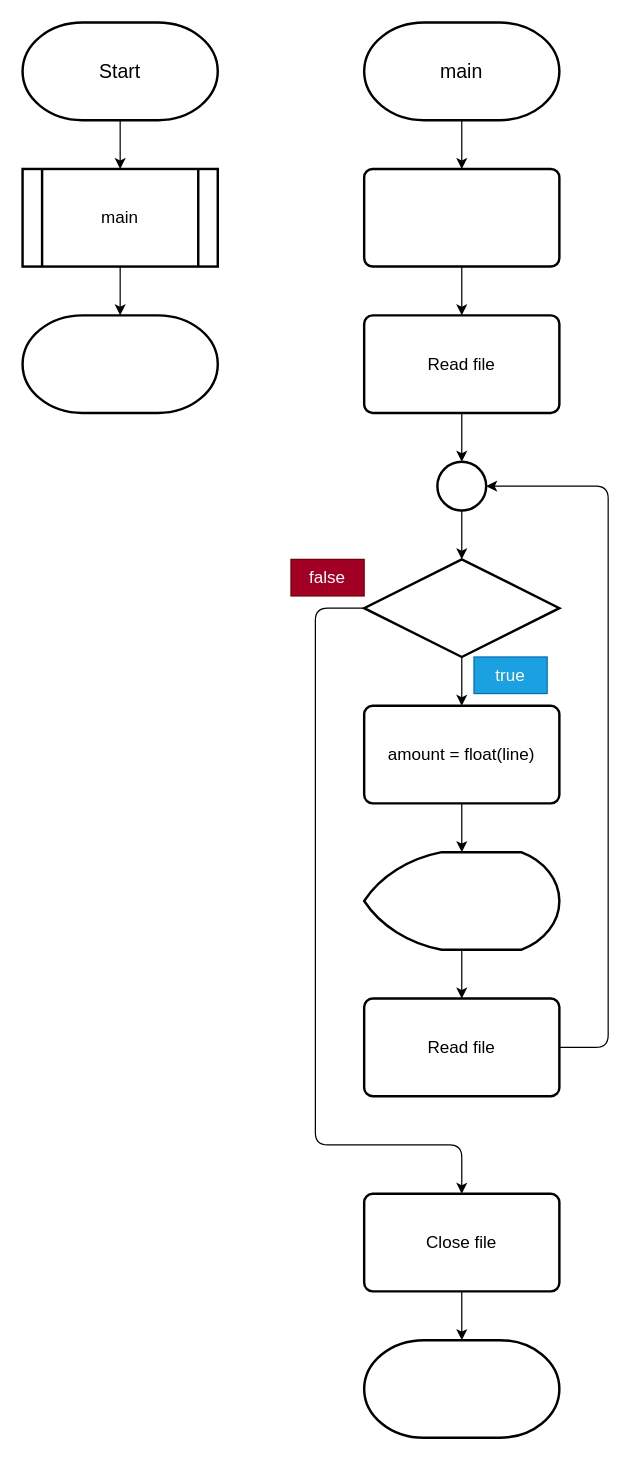
The diagram is 639 pixels wide and 1459 high, and some of its shapes have lost their labels. Here are the shapes that lost their labels. From the top down, the centre of each, then its label:
(x=461, y=217): open file (sales.txt)
(x=119, y=364): End
(x=461, y=608): line != ""
(x=461, y=900): amount, .2f
(x=461, y=1388): Return
